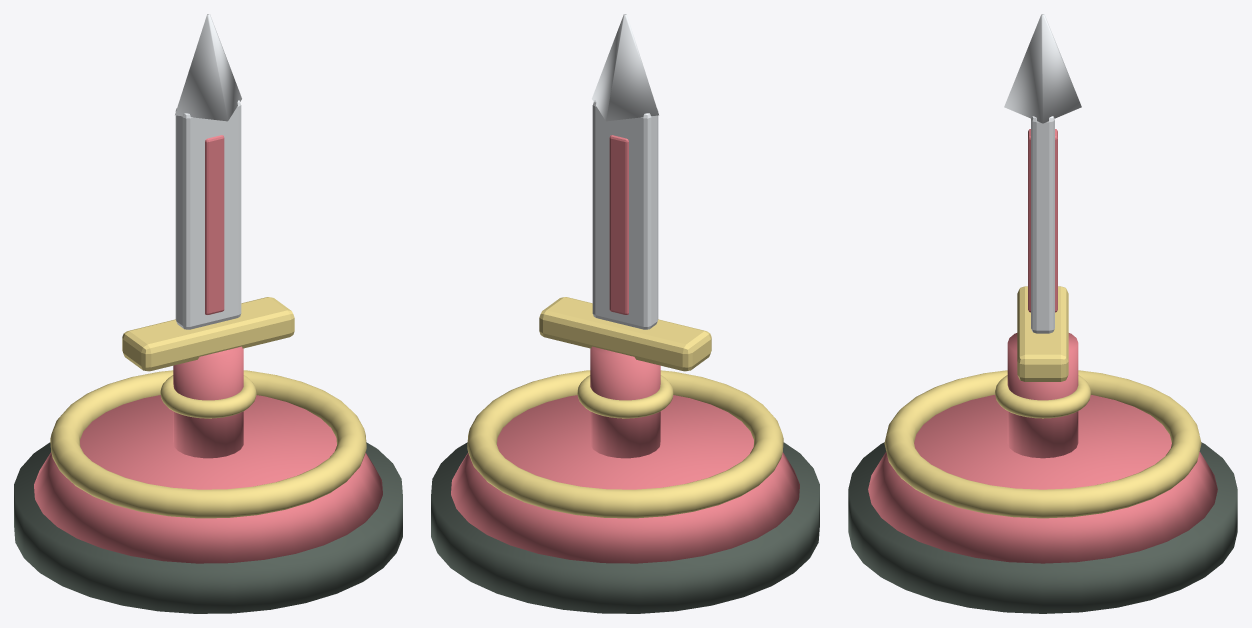
Rendered from pawn_facao.glb.
3 renders of one model, left to right at view 1: azimuth 30°, elevation 25°; view 2: azimuth 150°, elevation 25°; view 3: azimuth 270°, elevation 25°, orthographic.
Parts seen in each view (by area): view 1: PedestalColor, PedestalObsidian, PedestalGoldTrim, BladeBase, HiltGuard, PommelHandle, BladeTip, BladeFuller, GripRing; view 2: PedestalColor, PedestalObsidian, PedestalGoldTrim, BladeBase, HiltGuard, PommelHandle, BladeTip, BladeFuller, GripRing; view 3: PedestalColor, PedestalObsidian, PedestalGoldTrim, BladeBase, PommelHandle, BladeTip, HiltGuard, GripRing, BladeFuller.
Boxes of the visible parts, box(x1,y1,x2,y2) form: PedestalColor: box(34, 395, 382, 563); PedestalObsidian: box(14, 442, 402, 613); PedestalGoldTrim: box(50, 370, 366, 518); BladeBase: box(175, 100, 241, 329); HiltGuard: box(122, 297, 294, 371); PommelHandle: box(173, 346, 243, 458); BladeTip: box(175, 14, 241, 121); BladeFuller: box(205, 135, 224, 314); GripRing: box(160, 375, 256, 418); PedestalColor: box(451, 395, 799, 563); PedestalObsidian: box(431, 442, 819, 613); PedestalGoldTrim: box(467, 370, 783, 518); BladeBase: box(592, 100, 658, 329); HiltGuard: box(539, 297, 711, 371); PommelHandle: box(590, 346, 660, 458); BladeTip: box(592, 14, 658, 121); BladeFuller: box(609, 135, 628, 314); GripRing: box(577, 375, 673, 418); PedestalColor: box(868, 395, 1217, 563); PedestalObsidian: box(848, 442, 1237, 613); PedestalGoldTrim: box(884, 370, 1201, 518); BladeBase: box(1031, 116, 1054, 333); PommelHandle: box(1007, 333, 1078, 458); BladeTip: box(1004, 14, 1081, 123); HiltGuard: box(1017, 286, 1068, 381); GripRing: box(995, 375, 1090, 418); BladeFuller: box(1028, 129, 1057, 312).
Size of the model in its own units: 0.42 by 0.615 by 0.42.
